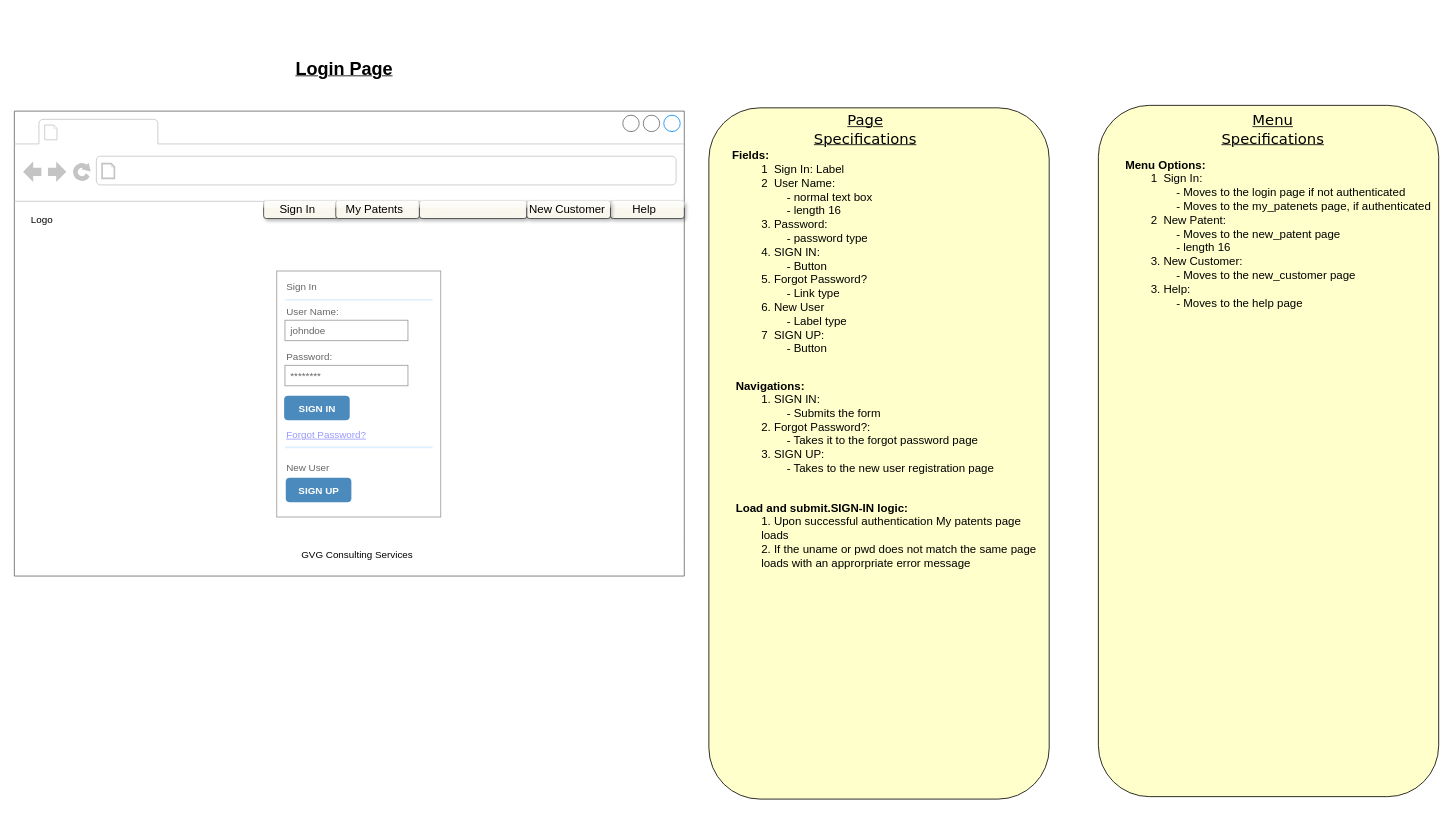
The diagram is 1453 pixels wide and 813 high, and some of its shapes have lost their labels. Here are the shapes that lost their labels. From the top down, the centre of each, then its label:
(108,129): mypatent
(253,164): https://mypatent.gvgservices.com/login
(473,210): New Patent
